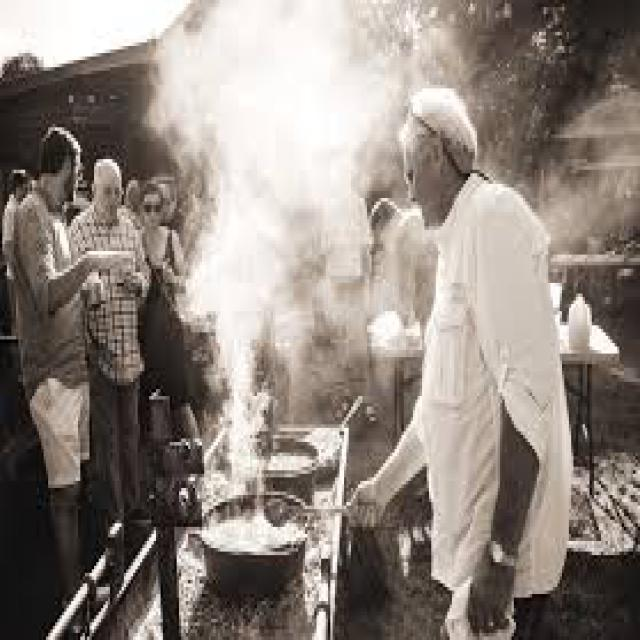smoke: (154, 3, 383, 389)
